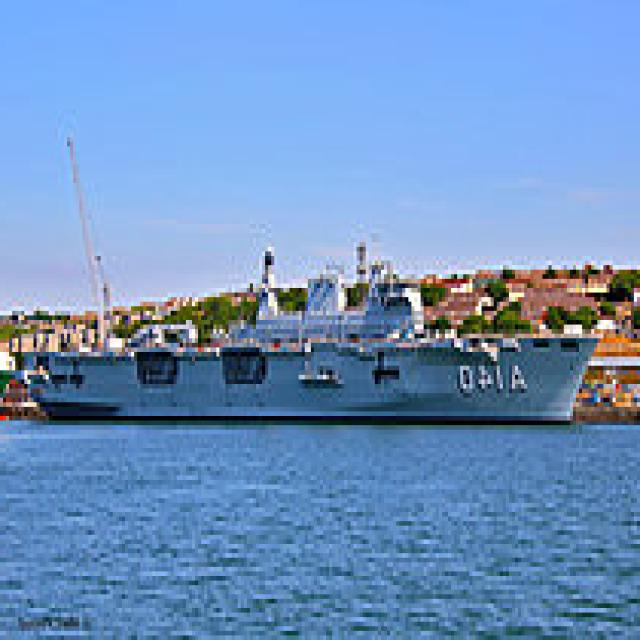Warship: (31, 238, 610, 425)
